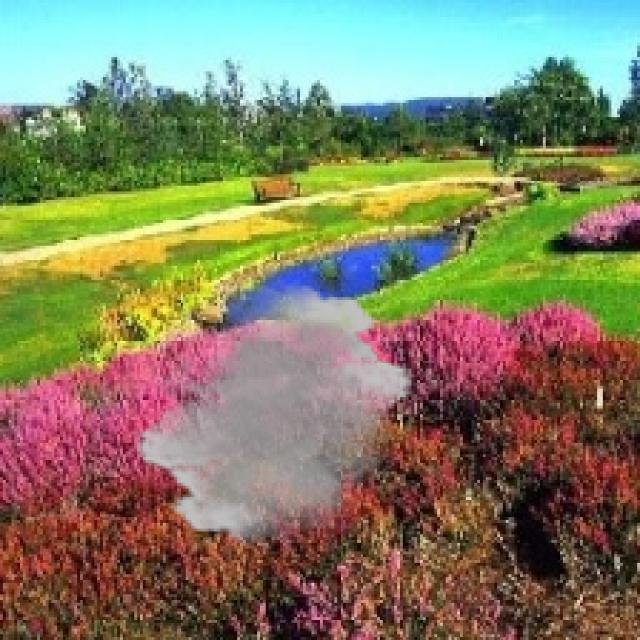Smoke: (134, 280, 414, 549)
